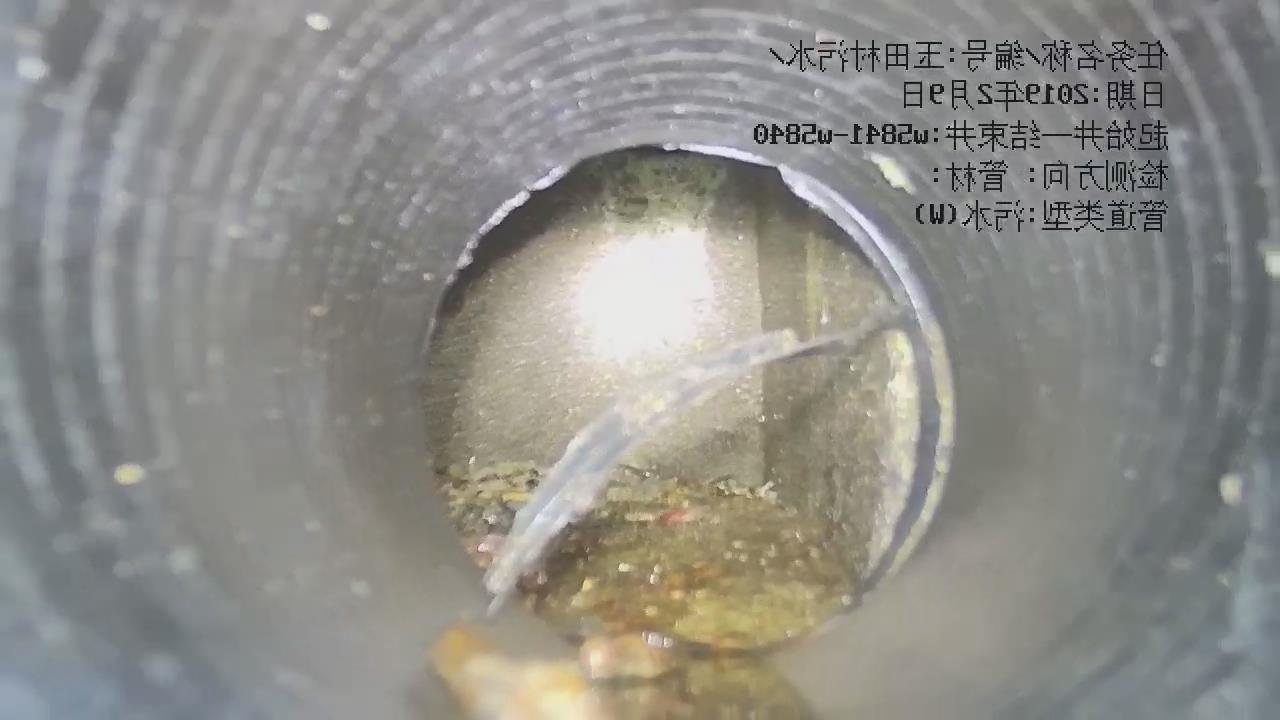CJ: (521, 465, 851, 652), (443, 462, 538, 539)
JKCL: (484, 316, 896, 615)
